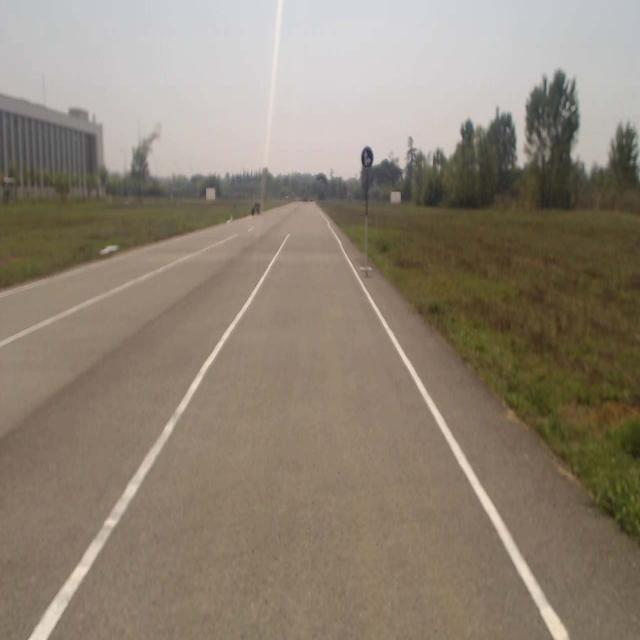ilerisag: (361, 147, 373, 168)
